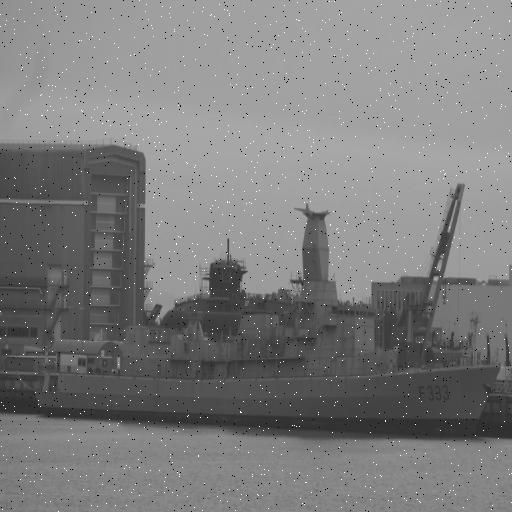Fragata: (34, 207, 505, 437)
